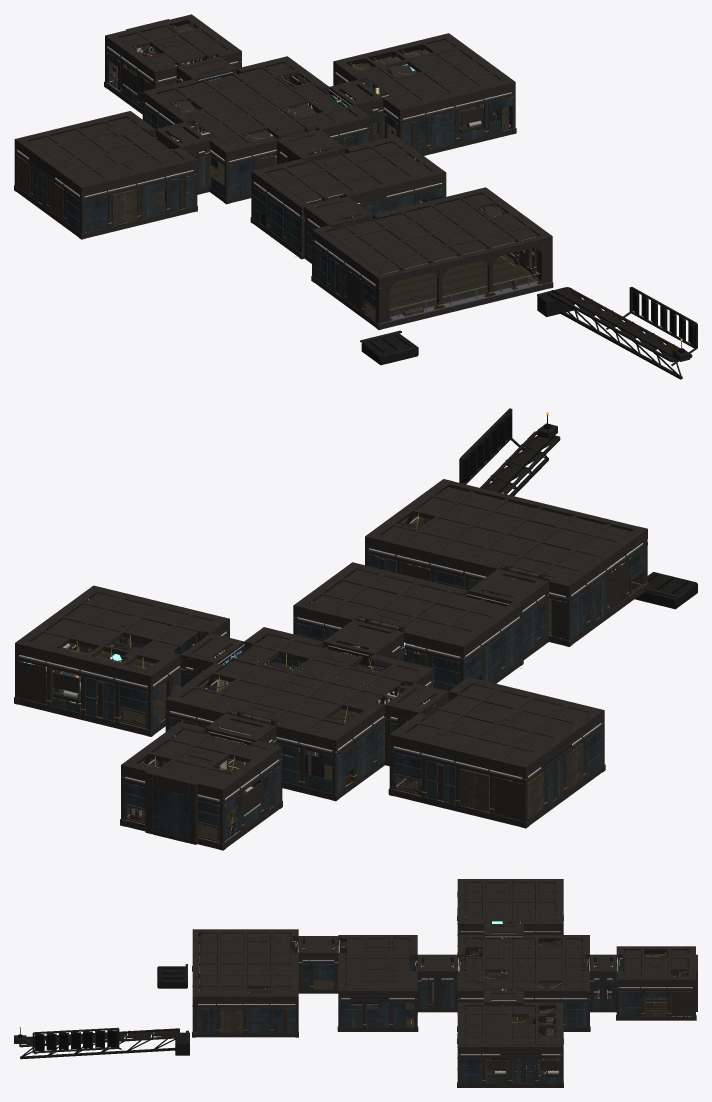
Rendered from environment.glb.
3 renders of one model, top to bottom at view 1: azimuth 30°, elevation 25°; view 2: azimuth 150°, elevation 25°; view 3: azimuth 270°, elevation 25°, orthographic. The views are drawn at different scales.
Visible parts, largest first — view 1: ENV_OBSERVATION, ENV_HUB, ENV_OPPORTUNITY, ENV_INSIGHT, ENV_RELAY, ENV_AIRLOCK, SM_EXT_ServiceBoom; view 2: ENV_HUB, ENV_OBSERVATION, ENV_OPPORTUNITY, ENV_INSIGHT, ENV_RELAY, ENV_AIRLOCK, SM_EXT_ServiceBoom, DET_HUB, DET_INSIGHT; view 3: ENV_HUB, ENV_OBSERVATION, ENV_INSIGHT, ENV_RELAY, ENV_AIRLOCK, ENV_OPPORTUNITY, SM_EXT_ServiceBoom, DET_OBSERVATION, DET_HUB.
Part boxes in pixels (bbox=[...]): ENV_OBSERVATION: bbox=[304, 187, 553, 329]; ENV_HUB: bbox=[142, 56, 383, 205]; ENV_OPPORTUNITY: bbox=[14, 111, 197, 239]; ENV_INSIGHT: bbox=[333, 33, 516, 155]; ENV_RELAY: bbox=[250, 136, 446, 258]; ENV_AIRLOCK: bbox=[104, 14, 241, 114]; SM_EXT_ServiceBoom: bbox=[360, 286, 697, 379]; ENV_HUB: bbox=[165, 620, 448, 800]; ENV_OBSERVATION: bbox=[365, 479, 648, 659]; ENV_OPPORTUNITY: bbox=[389, 677, 605, 828]; ENV_INSIGHT: bbox=[14, 585, 229, 736]; ENV_RELAY: bbox=[293, 562, 523, 691]; ENV_AIRLOCK: bbox=[120, 722, 282, 850]; SM_EXT_ServiceBoom: bbox=[459, 408, 697, 609]; DET_HUB: bbox=[166, 630, 435, 801]; DET_INSIGHT: bbox=[14, 617, 228, 736]; ENV_HUB: bbox=[417, 924, 616, 1042]; ENV_OBSERVATION: bbox=[192, 929, 338, 1037]; ENV_INSIGHT: bbox=[457, 1002, 563, 1087]; ENV_RELAY: bbox=[338, 935, 417, 1031]; ENV_AIRLOCK: bbox=[616, 946, 697, 1020]; ENV_OPPORTUNITY: bbox=[457, 879, 563, 964]; SM_EXT_ServiceBoom: bbox=[14, 964, 189, 1059]; DET_OBSERVATION: bbox=[192, 933, 333, 1037]; DET_HUB: bbox=[422, 936, 607, 1031].
Size of the model in its own units: 30.08 by 4.62 by 51.62.
17 materials, 10 textured.
